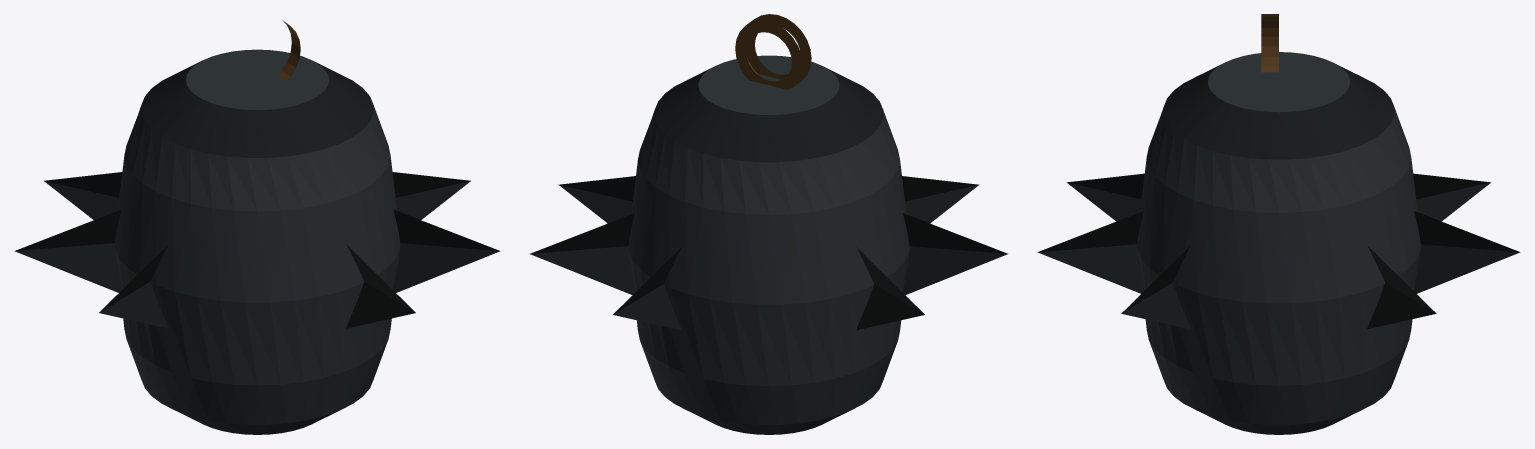
Rendered from SM_Watcher_NinefoldFlailHead_v1.obj.
The picture shows the model from 3 angles, left to right: view 1: azimuth 30°, elevation 25°; view 2: azimuth 150°, elevation 25°; view 3: azimuth 270°, elevation 25°; orthographic projection.
Size of the model in its own units: 0.3744 by 0.336 by 0.3801.
